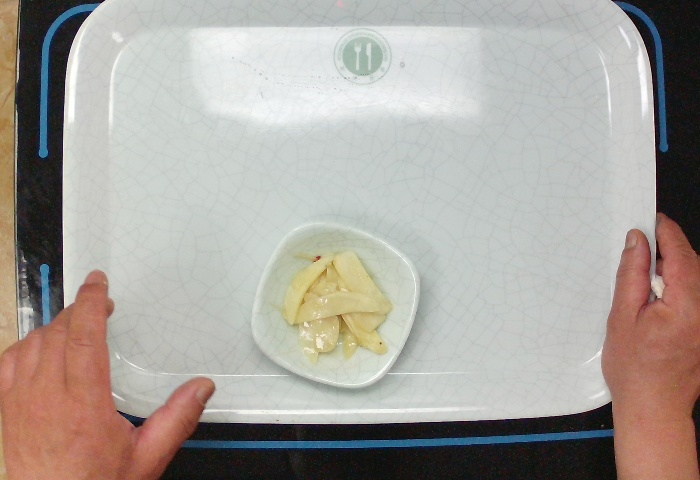JYsf-Si_Fang_Die: (246, 218, 419, 399)
